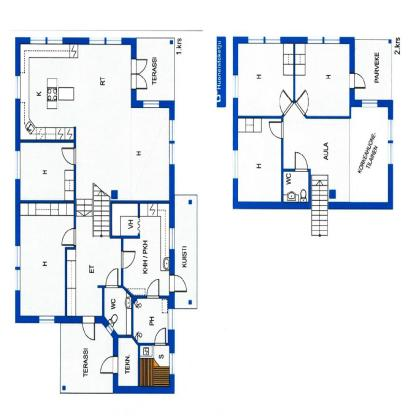door: (277, 90, 295, 116), (98, 356, 121, 375), (169, 273, 188, 294), (82, 316, 96, 342), (348, 73, 368, 91), (293, 151, 310, 172), (268, 119, 284, 141), (104, 267, 118, 291), (59, 228, 76, 247), (295, 92, 309, 114), (146, 278, 161, 298), (132, 73, 150, 89), (121, 250, 136, 268), (62, 147, 76, 166), (132, 58, 148, 74), (154, 326, 167, 344)
window: (14, 245, 22, 267), (167, 309, 175, 331), (105, 36, 122, 46), (232, 150, 238, 178), (248, 35, 264, 45), (14, 76, 21, 98), (88, 36, 106, 44), (39, 315, 55, 324), (170, 227, 176, 250), (361, 100, 378, 108), (168, 143, 174, 164), (169, 352, 175, 373), (389, 118, 394, 143), (233, 74, 238, 98), (30, 37, 46, 44), (308, 38, 323, 45), (47, 37, 62, 44), (16, 152, 20, 178), (16, 269, 20, 291), (265, 37, 279, 43), (324, 38, 340, 43), (170, 121, 174, 139), (389, 141, 392, 164), (107, 325, 113, 335)
zone: (18, 40, 171, 203), (18, 200, 74, 315), (284, 117, 348, 201), (78, 200, 122, 313), (237, 39, 297, 115), (236, 118, 284, 206), (295, 42, 349, 117), (125, 204, 168, 298), (60, 322, 117, 391), (350, 106, 388, 203), (18, 141, 74, 202), (174, 195, 197, 308), (138, 39, 174, 102), (355, 38, 391, 100), (132, 298, 170, 344), (104, 286, 132, 337), (139, 345, 170, 387), (110, 201, 140, 237), (118, 337, 139, 388), (281, 170, 308, 205), (312, 175, 327, 236), (283, 172, 309, 203)
